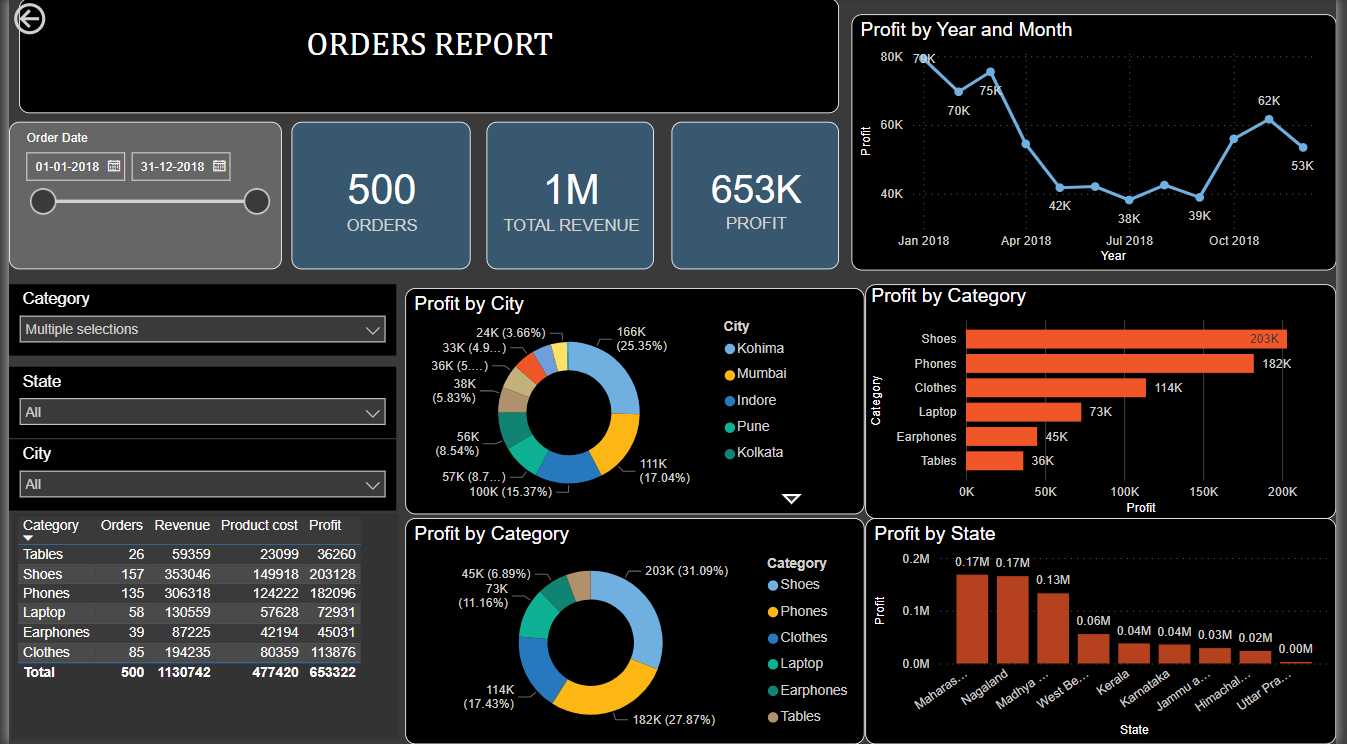

The page's visual inventory and layout, read from the dashboard file:
{"tool":"powerbi","page":{"name":"Page 1","canvas":[1280,720],"ordinal":0},"visuals":[{"type":"textbox","box":[9.6,0,791.8,107],"z":0},{"type":"card","fields":{"Values":["CountNonNull(Orders.Order ID)"]},"box":[273.1,119.4,172.9,142.7],"z":1000},{"type":"card","fields":{"Values":["Sum(Orders.order_total)"]},"box":[461.1,119.4,161.9,142.7],"z":2000},{"type":"card","fields":{"Values":["Sum(Orders.profit)"]},"box":[639.5,119.4,161.9,142.7],"z":3000},{"type":"lineChart","fields":{"Category":["Orders.Order Date.Variation.Date Hierarchy.Year","Orders.Order Date.Variation.Date Hierarchy.Month"],"Y":["Sum(Orders.profit)"]},"box":[812.4,15.1,467.9,247],"z":4000},{"type":"clusteredBarChart","fields":{"Y":["Sum(Orders.profit)"],"Category":["Orders.Category"]},"box":[826.1,275.8,454.2,226.4],"z":4001},{"type":"columnChart","fields":{"Y":["Sum(Orders.profit)"],"Category":["Orders.State"]},"box":[826.1,502.2,454.2,218.2],"z":4002},{"type":"donutChart","fields":{"Y":["Sum(Orders.profit)"],"Category":["Orders.Category"]},"box":[382.8,502.2,443.2,218.2],"z":4003},{"type":"donutChart","fields":{"Y":["Sum(Orders.profit)"],"Category":["Orders.City"]},"box":[382.8,279.9,443.2,218.2],"z":4004},{"type":"tableEx","fields":{"Values":["Orders.Category","CountNonNull(Orders.Order ID)","Sum(Orders.order_total)","Sum(Orders.Product cost)","Sum(Orders.profit)"]},"box":[2,497,373.2,218.2],"z":4005},{"type":"actionButton","box":[0,0,100,40],"z":4006},{"type":"slicer","fields":{"Values":["Orders.Order Date"]},"box":[0,119.4,263.5,142.7],"z":4007},{"type":"slicer","fields":{"Values":["Orders.Category"]},"box":[0,275.8,373.2,68.6],"z":4008},{"type":"slicer","fields":{"Values":["Orders.State"]},"box":[0,355.4,373.2,68.6],"z":4009},{"type":"slicer","fields":{"Values":["Orders.City"]},"box":[0,425.4,373.2,68.6],"z":4010}]}

Visuals, with their boxes in screenshot pixels (x1, y1, x2, y2), scaled from the page's 1280x720 canvas onto the 1347x744 screenshot:
textbox: {"x1": 10, "y1": 0, "x2": 843, "y2": 111}
card - CountNonNull(Orders.Order ID): {"x1": 287, "y1": 123, "x2": 469, "y2": 271}
card - Sum(Orders.order_total): {"x1": 485, "y1": 123, "x2": 656, "y2": 271}
card - Sum(Orders.profit): {"x1": 673, "y1": 123, "x2": 843, "y2": 271}
lineChart - Orders.Order Date.Variation.Date Hierarchy.Year x Orders.Order Date.Variation.Date Hierarchy.Month: {"x1": 855, "y1": 16, "x2": 1346, "y2": 271}
clusteredBarChart - Sum(Orders.profit) x Orders.Category: {"x1": 869, "y1": 285, "x2": 1346, "y2": 519}
columnChart - Sum(Orders.profit) x Orders.State: {"x1": 869, "y1": 519, "x2": 1346, "y2": 743}
donutChart - Sum(Orders.profit) x Orders.Category: {"x1": 403, "y1": 519, "x2": 869, "y2": 743}
donutChart - Sum(Orders.profit) x Orders.City: {"x1": 403, "y1": 289, "x2": 869, "y2": 515}
tableEx - Orders.Category x CountNonNull(Orders.Order ID): {"x1": 2, "y1": 514, "x2": 395, "y2": 739}
actionButton: {"x1": 0, "y1": 0, "x2": 105, "y2": 41}
slicer - Orders.Order Date: {"x1": 0, "y1": 123, "x2": 277, "y2": 271}
slicer - Orders.Category: {"x1": 0, "y1": 285, "x2": 393, "y2": 356}
slicer - Orders.State: {"x1": 0, "y1": 367, "x2": 393, "y2": 438}
slicer - Orders.City: {"x1": 0, "y1": 440, "x2": 393, "y2": 510}
